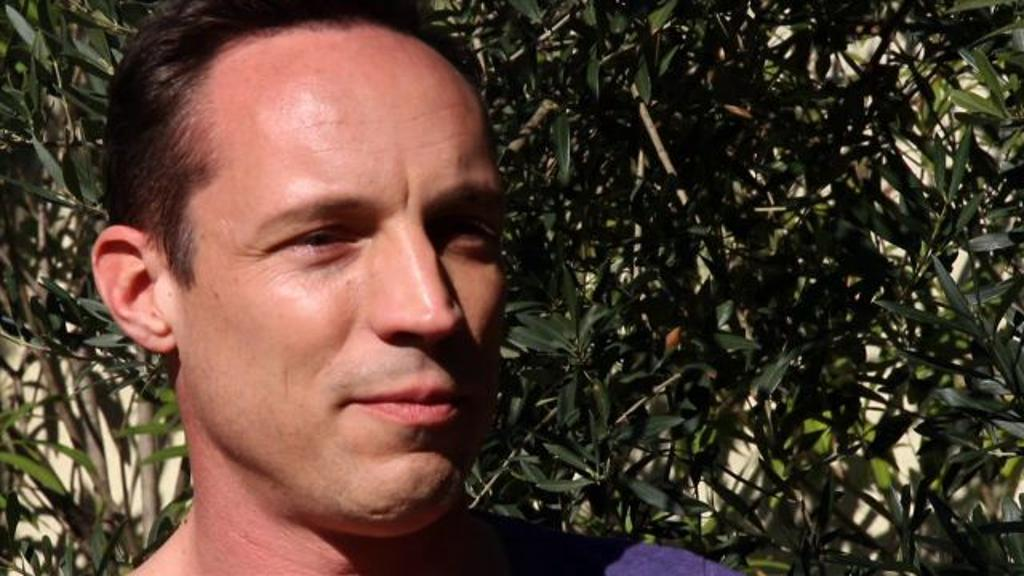face: (183, 31, 503, 513)
